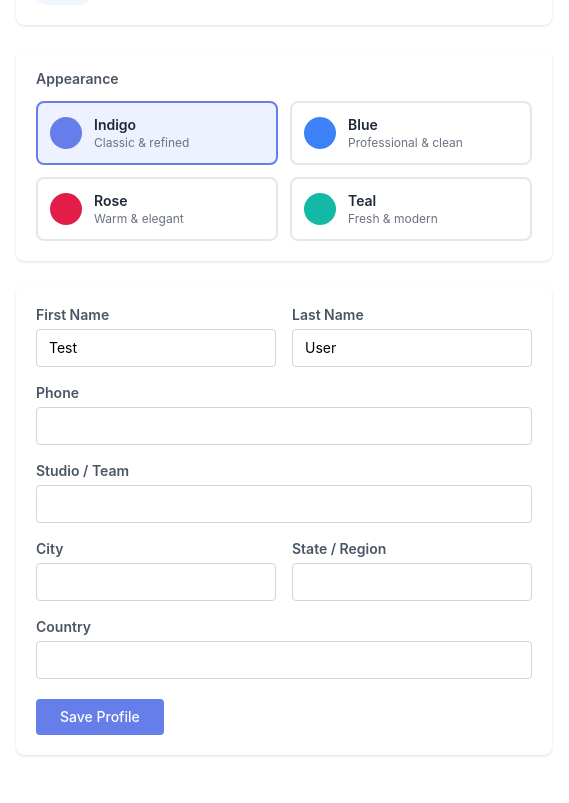
ProfilePage › should display "Profile saved." message after successful save
(page scrolled)
Click the button "Save Profile" at (100, 717), box [36, 699, 164, 735]
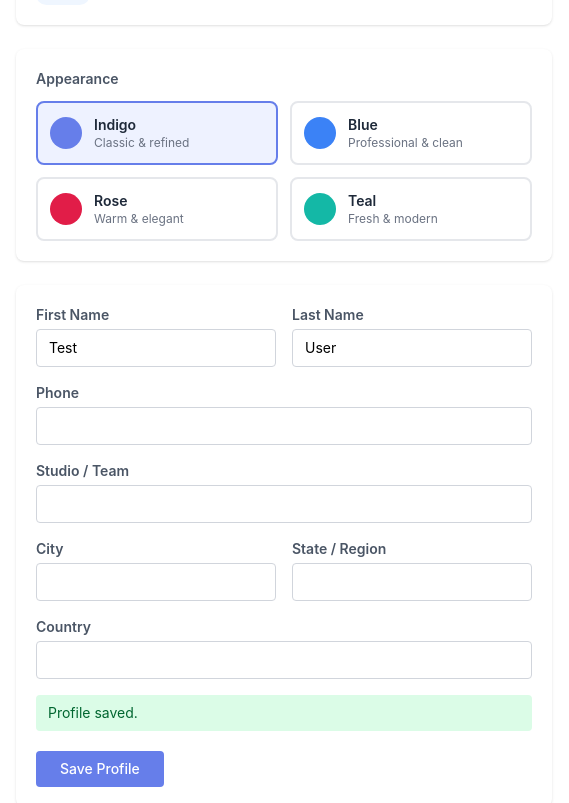
Now the text "Profile saved." is shown, box [36, 695, 532, 731]
